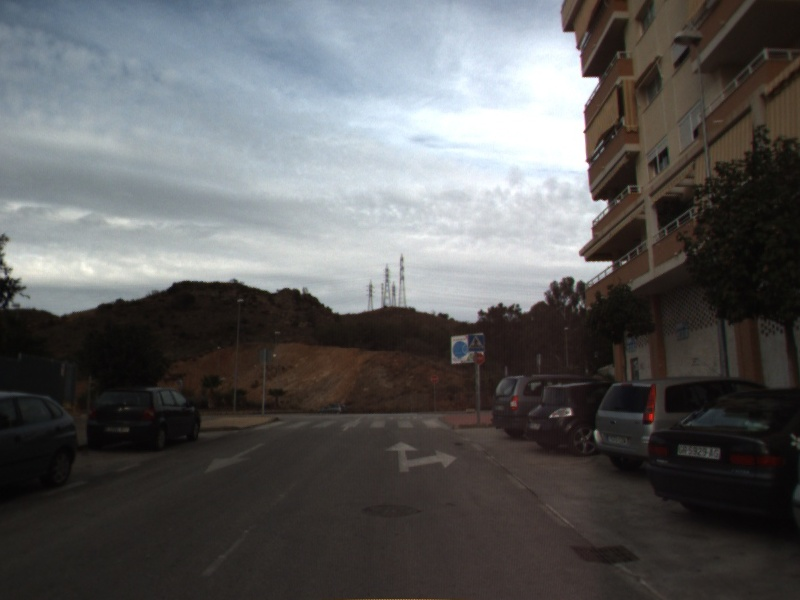STRAIGHT_RIGHT: (383, 439, 459, 474)
